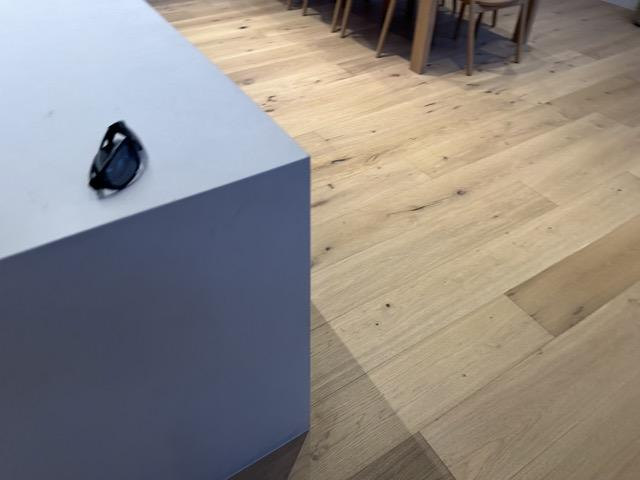Sunglasses: (87, 120, 146, 195)
